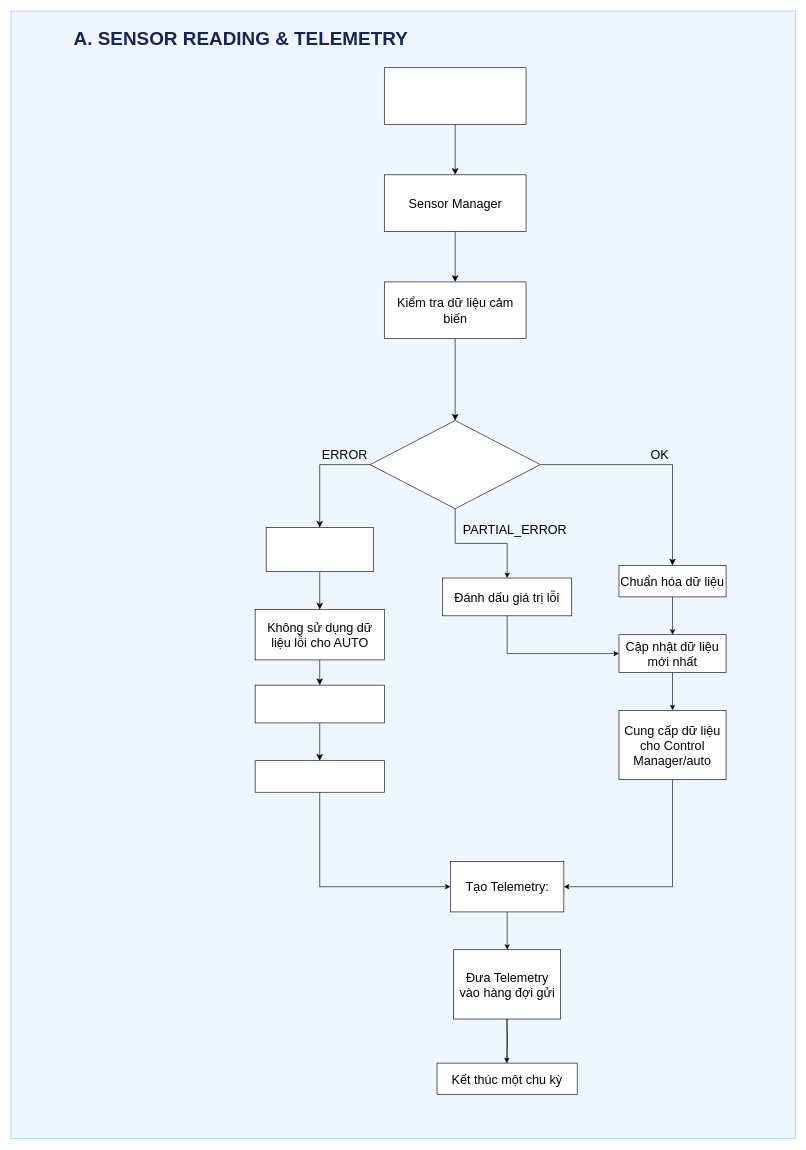
Some shapes in this 806 by 1150 pixel diagram are drawn without their labels. The shapes that lost their labels are listed below. From the top down, each one's box as (x1, y1, x2, y2) in pixels, then its label:
(384, 67, 526, 124): Bộ hẹn giờ Chu kì: 5s
(369, 420, 540, 509): Dữ liệu hợp lệ?
(266, 527, 373, 572): Đánh dấu lỗi / thiếu dữ liệu
(255, 684, 384, 723): Cập nhật sensor Error
(255, 760, 384, 792): Ghi nhận lỗi
